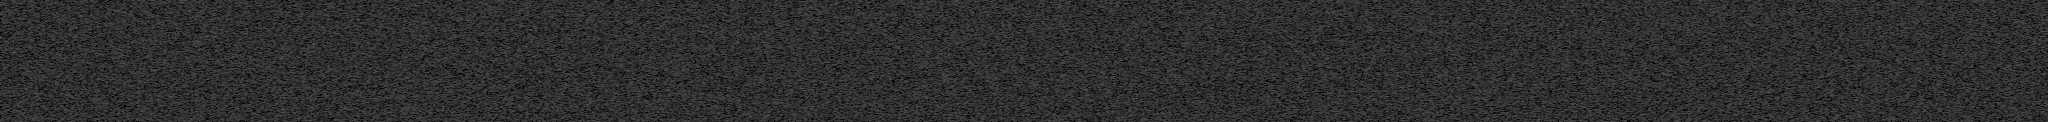wv_cw: (1853, 0, 1860, 122)
wv_lsb: (866, 3, 876, 122), (1832, 3, 1842, 122), (1906, 98, 1913, 110), (1907, 62, 1913, 67), (1906, 56, 1913, 60), (1910, 70, 1913, 77), (1906, 119, 1915, 122), (1908, 109, 1913, 113), (1906, 87, 1911, 91), (1910, 49, 1913, 52), (1906, 51, 1910, 54), (1906, 94, 1910, 97)
wv_usb: (700, 3, 709, 122)
wv_wbfm: (1395, 0, 1829, 122), (189, 0, 590, 122), (567, 26, 593, 30)
